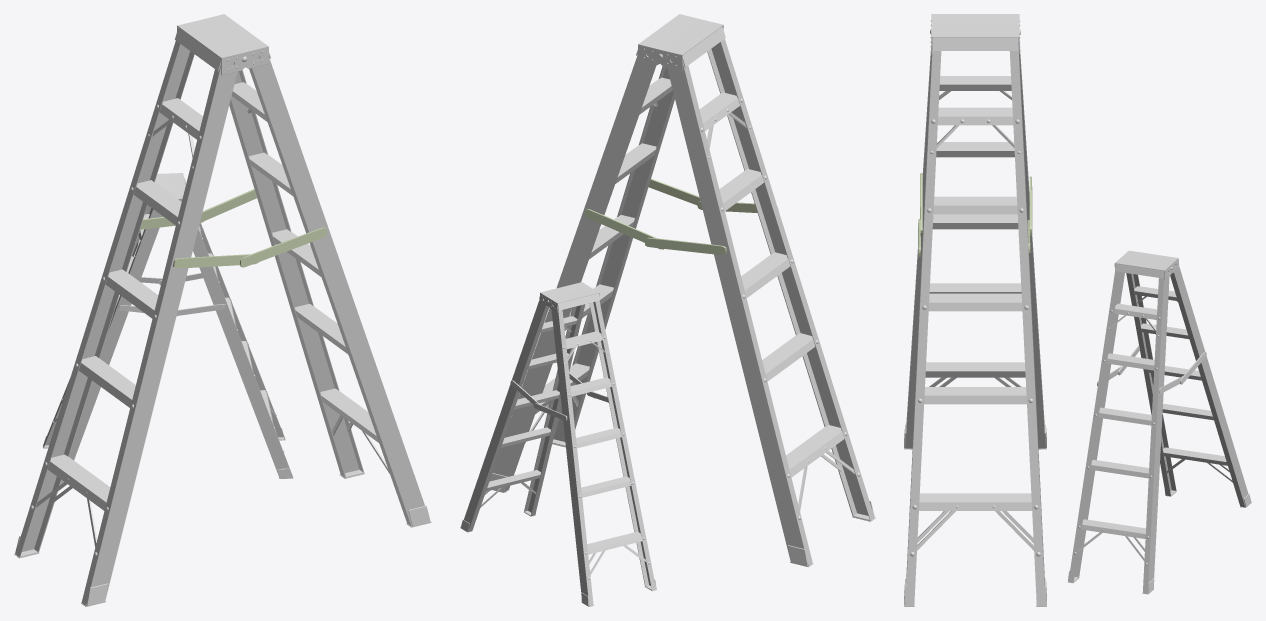
File: Escalera.glb
The picture shows the model from 3 angles, left to right: view 1: azimuth 30°, elevation 25°; view 2: azimuth 150°, elevation 25°; view 3: azimuth 270°, elevation 25°; orthographic projection. The views are drawn at different scales.
Visible parts, largest first — view 1: Escalera.001, Adds, Plane.002; view 2: Escalera.001, Adds, Plane.002; view 3: Escalera.001, Adds, Plane.002.
Boxes of the visible parts, x1,y1,x2,y2 form: Escalera.001: [14, 14, 431, 606]; Adds: [42, 173, 293, 484]; Plane.002: [140, 189, 327, 268]; Escalera.001: [489, 14, 875, 567]; Adds: [460, 282, 656, 606]; Plane.002: [584, 178, 778, 254]; Escalera.001: [904, 14, 1046, 606]; Adds: [1068, 250, 1251, 594]; Plane.002: [918, 173, 1032, 256].
Size of the model in its own units: 2.99 by 4.18 by 2.63.
